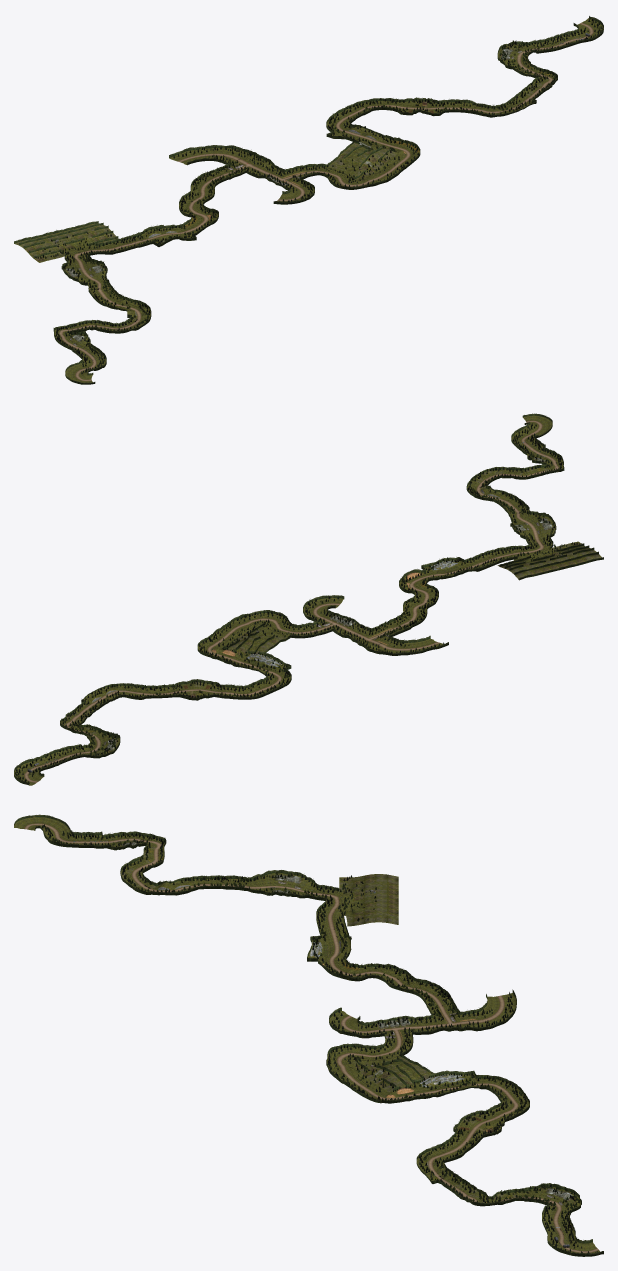
The model's file is russia_stage3_visual.glb.
3 views of the same model, one above another, from view 1: azimuth 30°, elevation 25°; view 2: azimuth 210°, elevation 25°; view 3: azimuth 270°, elevation 25° (orthographic). The views are drawn at different scales.
Parts seen in each view (by area): view 1: Track_Road_And_Terrain, Foliage_And_Vegetation; view 2: Track_Road_And_Terrain, Foliage_And_Vegetation; view 3: Track_Road_And_Terrain, Foliage_And_Vegetation.
Part boxes in pixels (<box>): Track_Road_And_Terrain: <box>14,16,603,384</box>; Foliage_And_Vegetation: <box>35,19,602,374</box>; Track_Road_And_Terrain: <box>14,413,603,785</box>; Foliage_And_Vegetation: <box>15,423,581,783</box>; Track_Road_And_Terrain: <box>14,814,603,1256</box>; Foliage_And_Vegetation: <box>42,824,597,1253</box>.
Bounding box in the file's own units: 2170 × 32.51 × 1239.
Materials: 73 (73 with a texture image).
